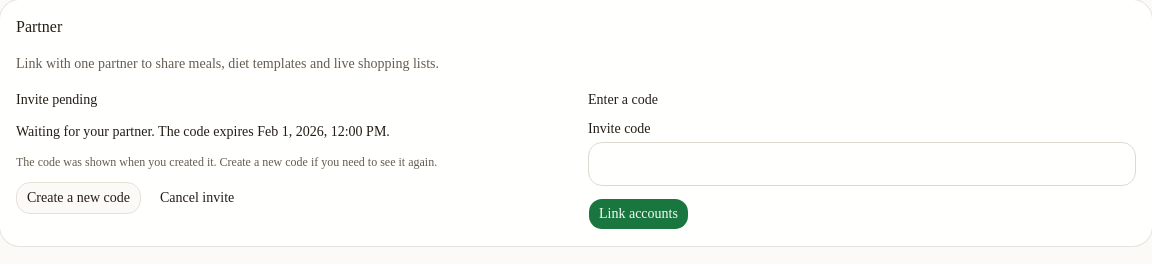
it: with a pending invite › says when it expires, offers a new code and cancelling, and cancels
The width and height of the screenshot is (1152, 264).
Expected: the text "Waiting for your partner" is shown, [16,124,257,139]
Expected: the text "Feb 1, 2026" is shown, [257,124,386,139]
Click the button "Cancel invite": (197, 198) [149,182,245,214]
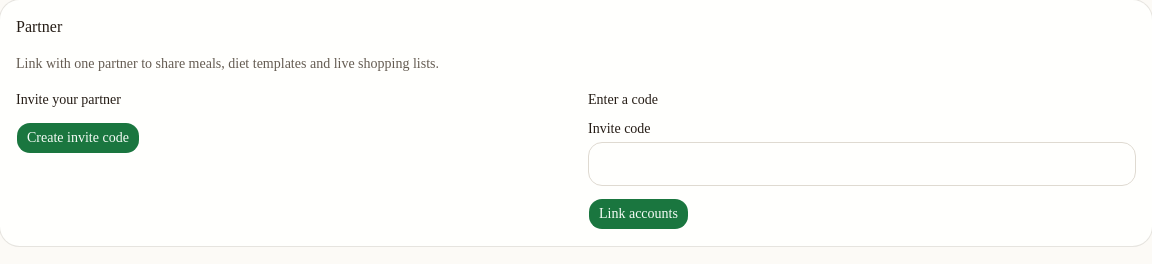
Result: the button "Create invite code" is shown at [16,122,140,154]
